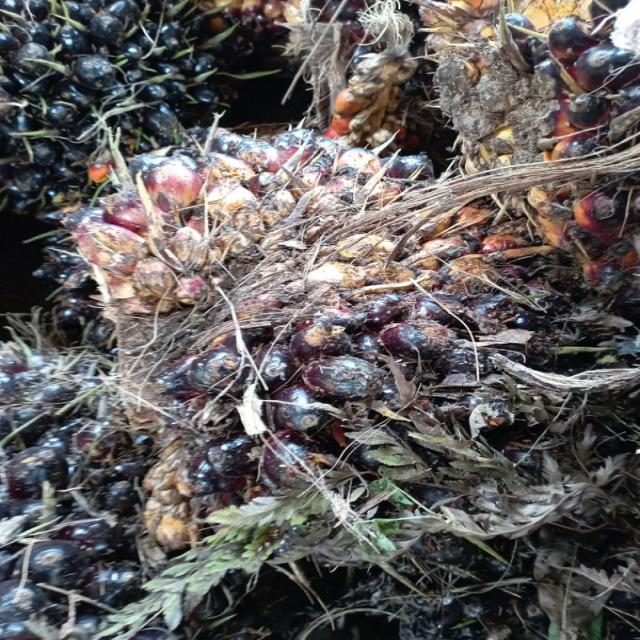fraksi 00: (53, 125, 576, 519)
